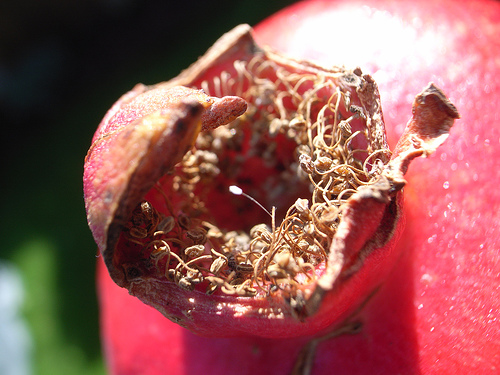pomogranate: (95, 0, 497, 374), (83, 23, 461, 339)
